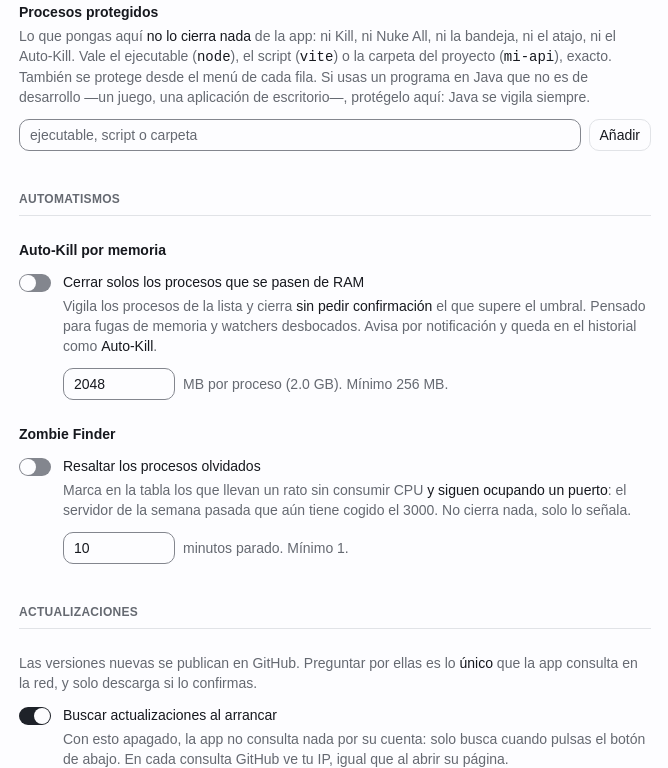
umbral del Auto-Kill › vuelve al valor guardado si el campo queda vacio o con basura
The width and height of the screenshot is (668, 768).
(page scrolled)
Clear the number field named "Umbral de RAM en MB" at (119, 384), box [63,368,175,400]
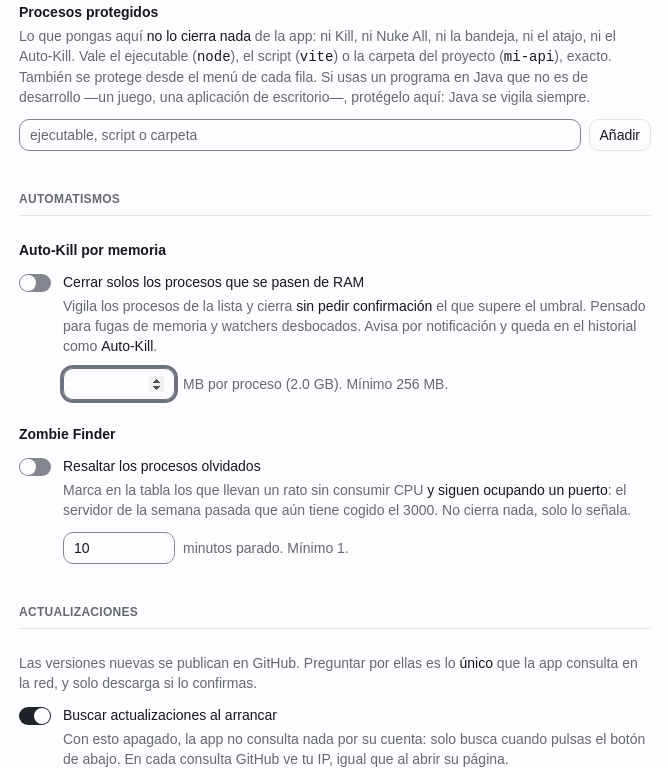
Press Tab
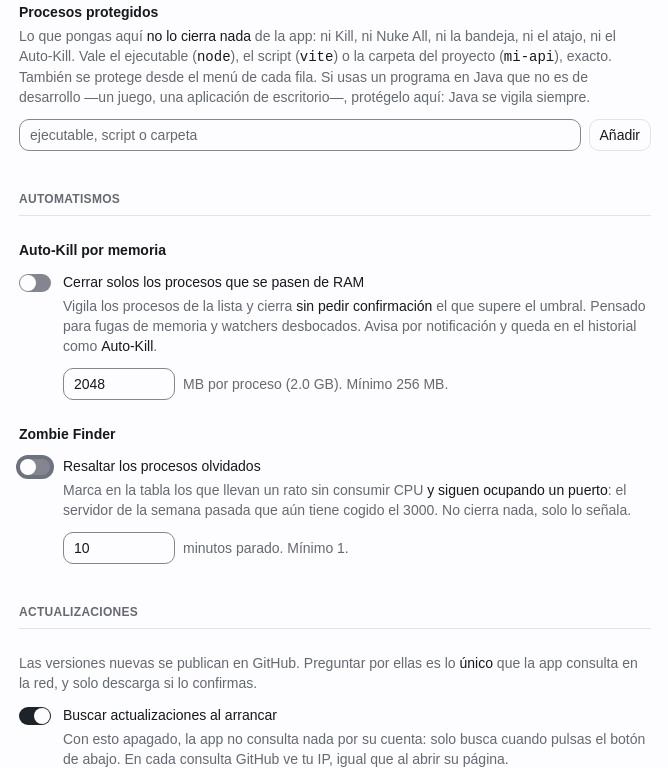
Expected: the number field named "Umbral de RAM en MB" holds "2048", [63,368,175,400]
